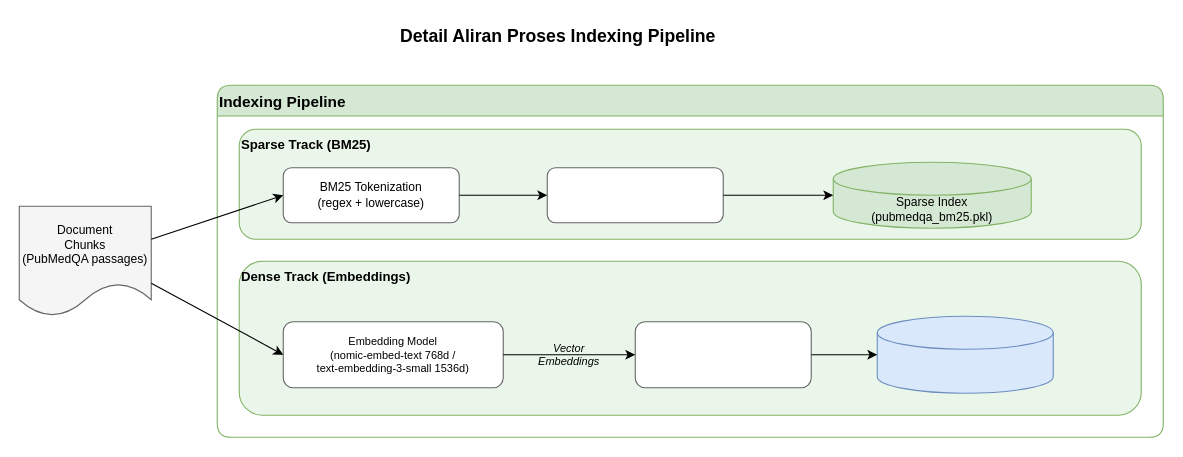
This 1183x457 diagram has some shape labels left out. Each missing label, with the centre of its shape:
"BM25Okapi Index Builder" goes at (634,195).
"ChromaDB (Vector DB)" goes at (964,354).
"DB Instantiation (cosine, HNSW)" goes at (722,354).
